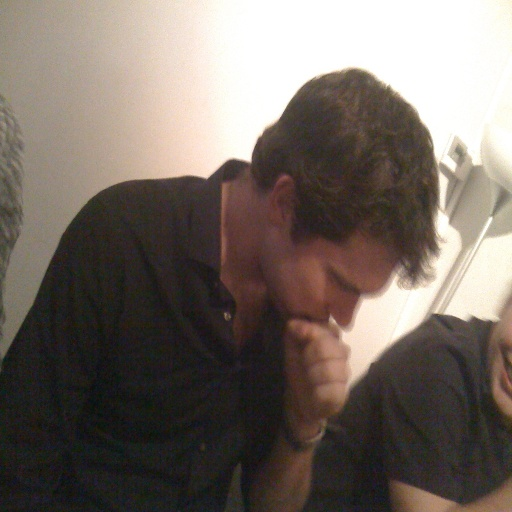hand: (268, 311, 357, 431)
